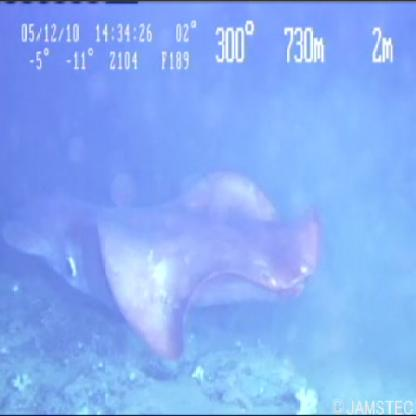Bio: (1, 164, 325, 366)
